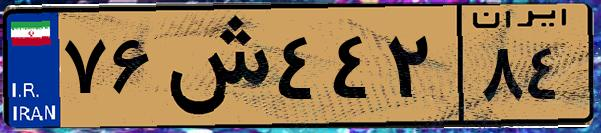2: (385, 28, 445, 110)
4: (270, 28, 330, 110), (330, 28, 385, 110), (525, 38, 570, 115)
6: (110, 28, 158, 98)
7: (57, 26, 110, 100)
8: (475, 38, 525, 113)
ش: (158, 12, 270, 120)
